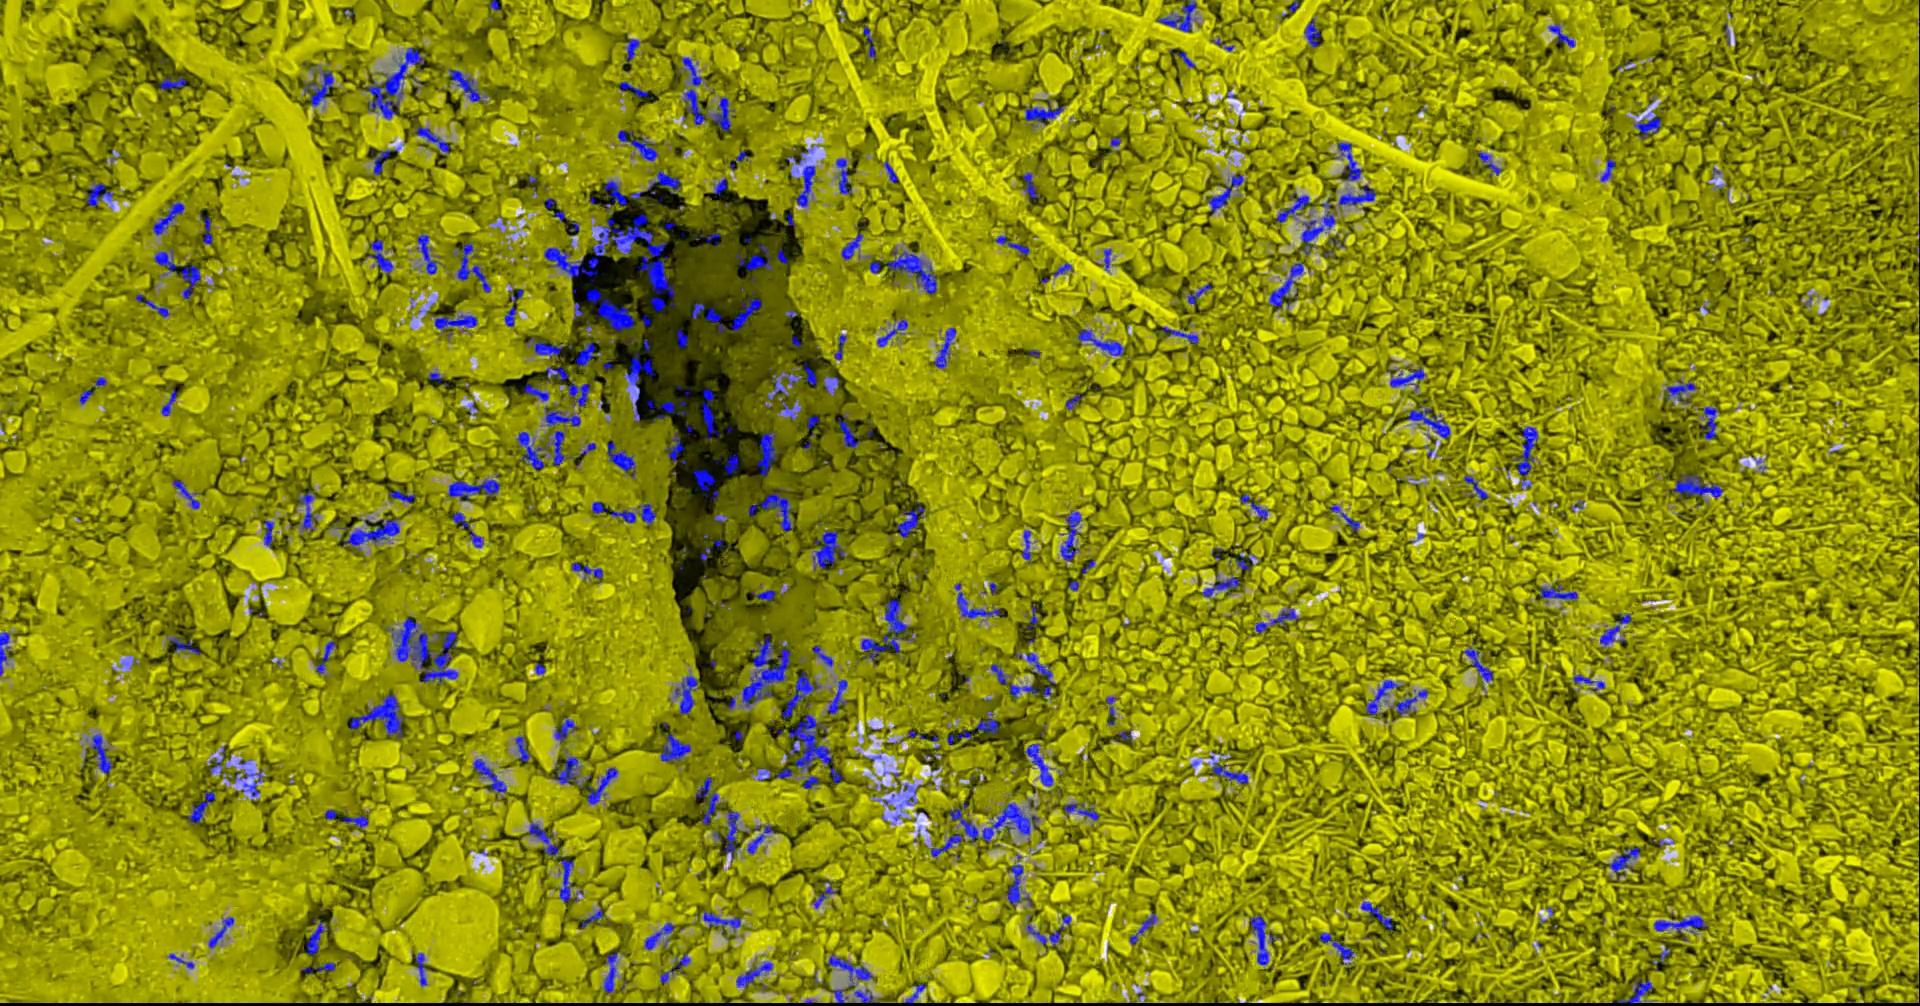ant: (860, 600, 913, 662), (990, 652, 1054, 699), (347, 694, 403, 738), (152, 248, 201, 298), (1297, 197, 1335, 255), (623, 351, 655, 420), (342, 513, 399, 551), (888, 249, 936, 293), (585, 288, 634, 332), (747, 486, 791, 531), (780, 671, 819, 718), (712, 810, 750, 859), (946, 710, 999, 744), (453, 243, 490, 292), (681, 57, 707, 124), (1269, 260, 1303, 311), (1250, 915, 1283, 964), (954, 583, 999, 619), (827, 954, 872, 989), (1512, 426, 1537, 489), (578, 767, 617, 804), (1208, 173, 1243, 213), (1023, 743, 1051, 794), (1407, 405, 1449, 438), (811, 528, 844, 570), (1026, 915, 1070, 945), (472, 758, 505, 799), (1006, 854, 1031, 906), (1672, 473, 1722, 499), (695, 776, 721, 826), (448, 69, 486, 102), (516, 431, 549, 469), (1077, 328, 1124, 354), (1156, 0, 1196, 30), (1365, 680, 1399, 715), (617, 130, 657, 160), (1023, 98, 1064, 126), (731, 290, 759, 330), (557, 855, 582, 902), (1255, 607, 1299, 633), (447, 479, 499, 500), (223, 768, 263, 796), (1608, 846, 1641, 879), (1318, 932, 1352, 964), (1463, 647, 1493, 682), (527, 821, 557, 856), (303, 69, 333, 105), (606, 441, 635, 478), (152, 202, 184, 235), (1275, 192, 1309, 222), (897, 500, 924, 537), (756, 431, 778, 475), (1390, 688, 1429, 715), (1653, 915, 1707, 934), (1599, 614, 1630, 645), (1059, 511, 1079, 560), (657, 732, 690, 762), (1617, 978, 1653, 1005), (1336, 142, 1361, 180), (604, 180, 643, 206), (778, 361, 817, 386), (691, 302, 724, 332), (1360, 901, 1393, 930), (590, 500, 635, 522), (417, 232, 439, 274), (187, 790, 215, 824), (1200, 573, 1239, 597), (673, 674, 697, 714), (414, 126, 450, 152), (366, 238, 392, 273), (735, 244, 771, 271), (735, 962, 772, 987), (659, 953, 690, 983), (1128, 912, 1157, 944), (700, 387, 717, 439), (646, 169, 681, 194), (524, 337, 563, 359), (745, 824, 775, 854), (550, 756, 580, 784), (296, 490, 317, 530), (703, 911, 740, 934), (135, 293, 169, 318), (795, 165, 815, 206), (935, 326, 955, 367), (646, 399, 684, 420), (171, 479, 199, 508), (1330, 503, 1359, 531), (876, 319, 907, 345), (836, 413, 858, 448), (305, 918, 328, 954), (644, 922, 674, 949), (91, 734, 112, 774), (710, 97, 734, 130), (1663, 379, 1697, 403), (434, 314, 477, 332), (1211, 762, 1247, 784), (208, 916, 232, 948), (1338, 184, 1375, 205), (543, 405, 580, 426), (372, 147, 399, 175), (1156, 326, 1197, 344), (1239, 493, 1267, 520), (1389, 367, 1423, 389), (1472, 151, 1502, 175), (1539, 583, 1577, 602), (825, 680, 847, 713), (994, 235, 1029, 255), (551, 431, 571, 465), (574, 340, 601, 366), (79, 377, 105, 403), (1063, 801, 1098, 821), (811, 882, 837, 908), (315, 640, 335, 673), (692, 467, 715, 497), (1548, 23, 1575, 47), (85, 182, 112, 206), (1633, 116, 1661, 138), (1699, 406, 1718, 439), (664, 432, 684, 462), (1463, 474, 1488, 498), (568, 379, 589, 406), (168, 636, 201, 654), (603, 951, 617, 993), (554, 716, 577, 742), (841, 232, 862, 259), (1186, 282, 1211, 304), (836, 158, 851, 193), (571, 561, 602, 579), (1572, 673, 1604, 690), (766, 375, 787, 399), (902, 983, 926, 1005), (0, 631, 11, 674), (580, 908, 604, 929), (522, 384, 549, 401), (1304, 18, 1321, 46), (1022, 171, 1039, 199), (695, 227, 720, 245), (1652, 945, 1670, 970), (300, 962, 335, 974), (618, 81, 648, 97), (811, 645, 833, 666), (157, 76, 185, 91), (161, 387, 177, 415), (862, 25, 875, 58), (853, 988, 879, 1005), (637, 503, 655, 526), (514, 735, 530, 762), (565, 218, 579, 246), (210, 746, 223, 774), (199, 213, 212, 244), (168, 953, 193, 968), (785, 147, 808, 164), (545, 366, 568, 382), (781, 398, 797, 420), (832, 987, 852, 1005), (625, 38, 639, 64), (340, 815, 368, 828), (1600, 158, 1615, 180), (1096, 248, 1111, 271), (723, 452, 738, 475), (415, 951, 425, 986), (729, 150, 747, 169), (263, 520, 276, 546), (1209, 37, 1233, 51), (833, 334, 846, 359), (387, 490, 415, 502), (1025, 605, 1037, 629), (1021, 528, 1030, 563), (883, 160, 897, 182), (1051, 262, 1073, 276), (1178, 50, 1195, 67), (1065, 392, 1083, 409), (451, 511, 469, 527), (1236, 553, 1252, 570), (1105, 696, 1115, 724), (428, 371, 447, 385), (469, 528, 483, 547), (750, 589, 776, 600), (712, 177, 726, 194), (504, 305, 516, 326), (775, 766, 792, 779), (676, 328, 687, 347), (801, 775, 818, 788), (776, 249, 789, 264), (508, 288, 523, 301), (806, 415, 819, 431), (1116, 729, 1131, 741), (757, 767, 770, 780), (869, 260, 880, 273), (324, 809, 337, 819)
